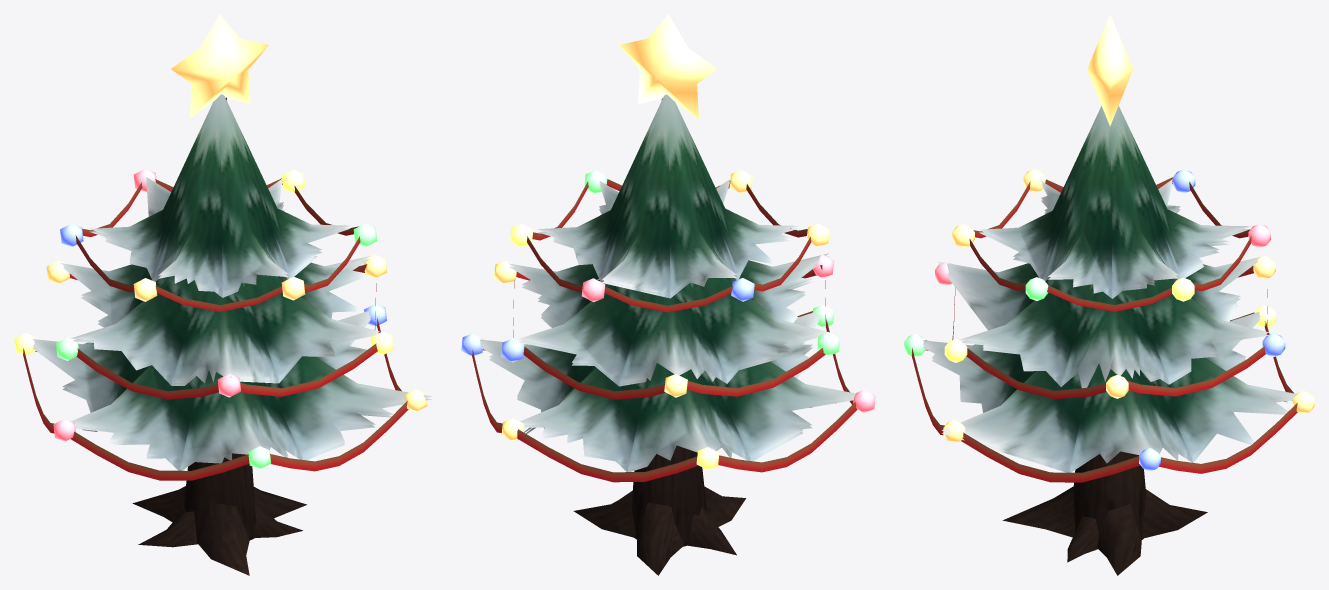
The model's file is SwayingLitTree.glb.
The picture shows the model from 3 angles, left to right: view 1: azimuth 30°, elevation 25°; view 2: azimuth 150°, elevation 25°; view 3: azimuth 270°, elevation 25°; orthographic projection.
Parts seen in each view (by area): view 1: LitTree; view 2: LitTree; view 3: LitTree.
Part boxes in pixels (x1,y1,x2,y2): LitTree: (14, 14, 431, 575); LitTree: (461, 14, 875, 575); LitTree: (904, 14, 1314, 575).
Bounding box in the file's own units: 5.38 × 7.17 × 5.15.
Materials: 7 (2 with a texture image).
